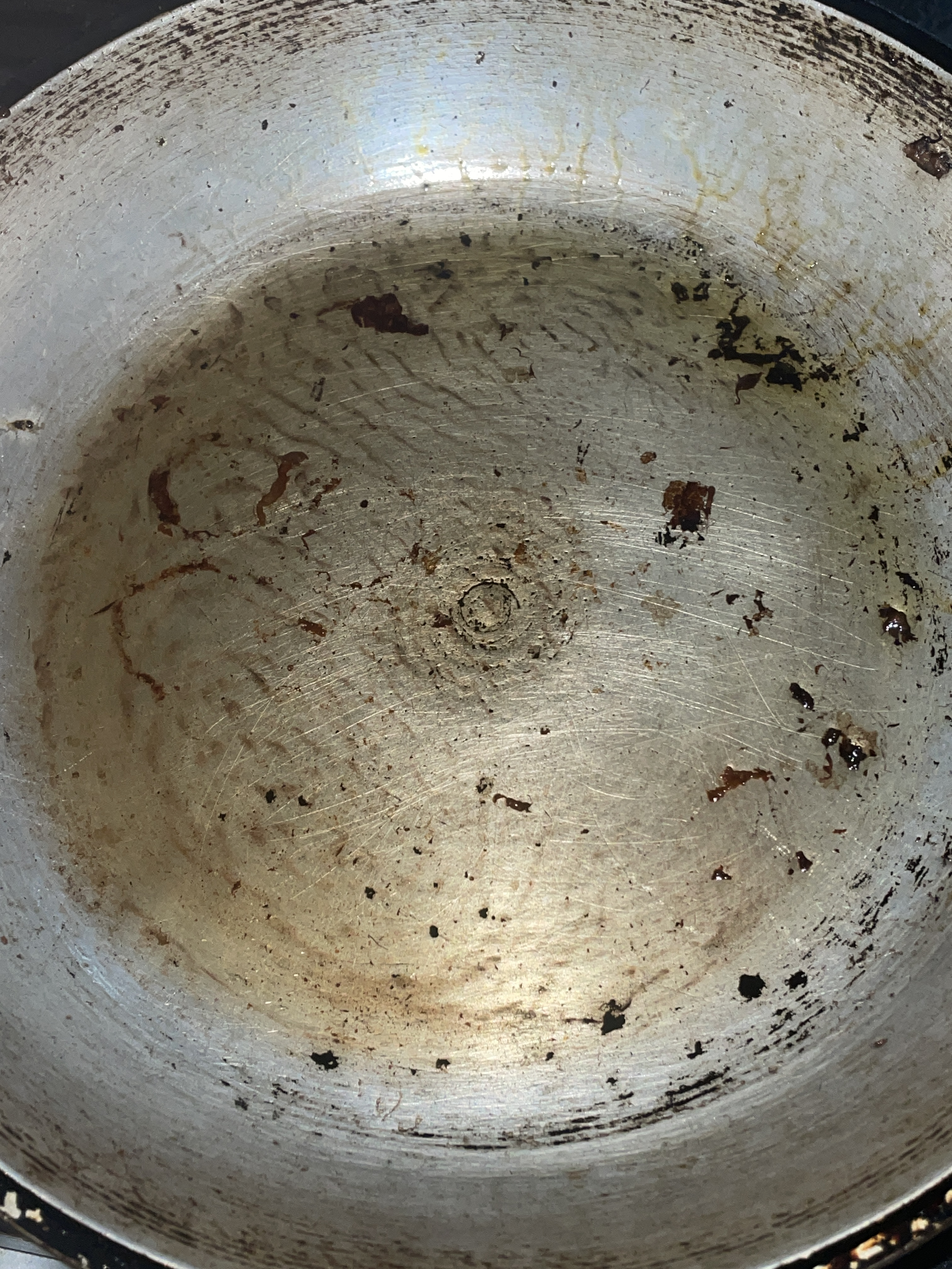reusable: (22, 233, 933, 1061)
